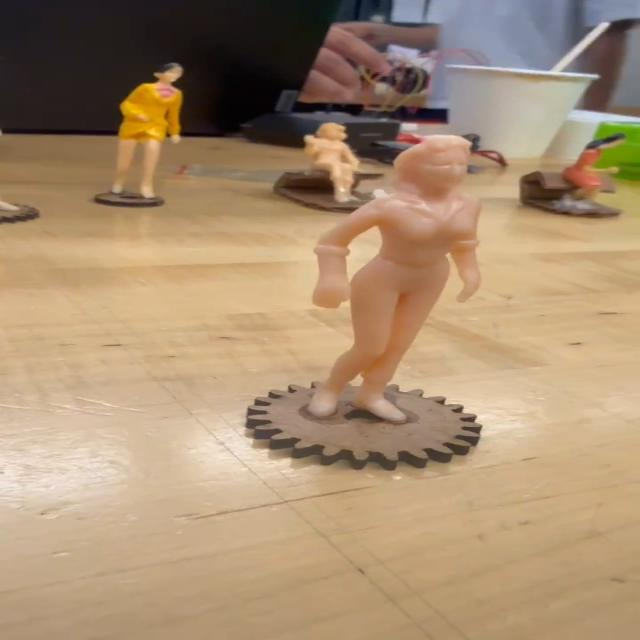Unauthorized: (278, 129, 508, 426)
